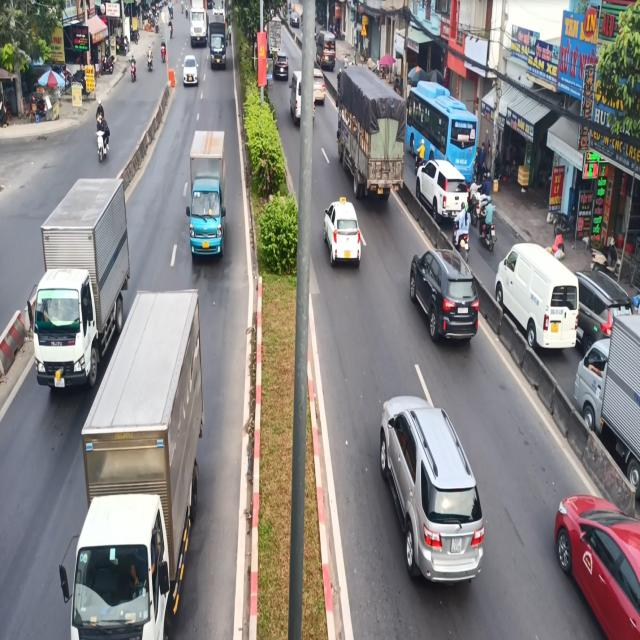car: (378, 375, 492, 595), (492, 237, 582, 363), (406, 228, 486, 360), (323, 189, 363, 283), (181, 50, 201, 96)
motor: (93, 98, 119, 164)
truck: (33, 165, 129, 394), (184, 127, 232, 276)
